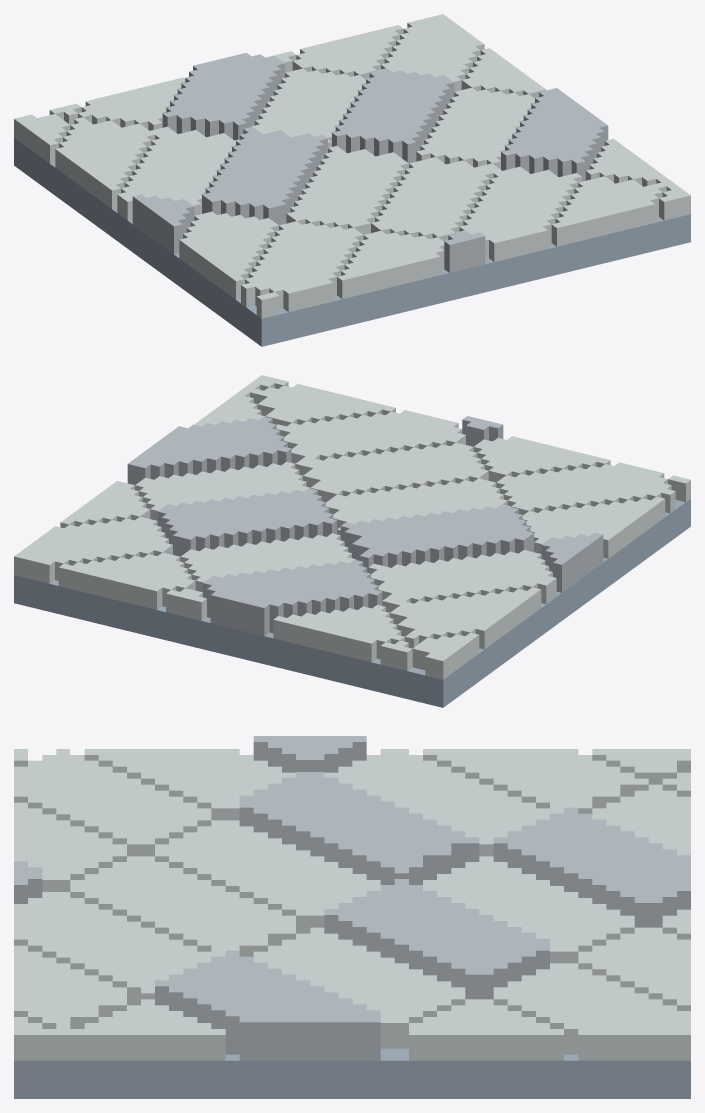
Rendered from street.obj.
The picture shows the model from 3 angles, top to bottom: view 1: azimuth 30°, elevation 25°; view 2: azimuth 150°, elevation 25°; view 3: azimuth 270°, elevation 25°; orthographic projection. The views are drawn at different scales.
Bounding box in the file's own units: 4.8 × 0.6 × 4.8.
Materials: 1 (1 with a texture image).
